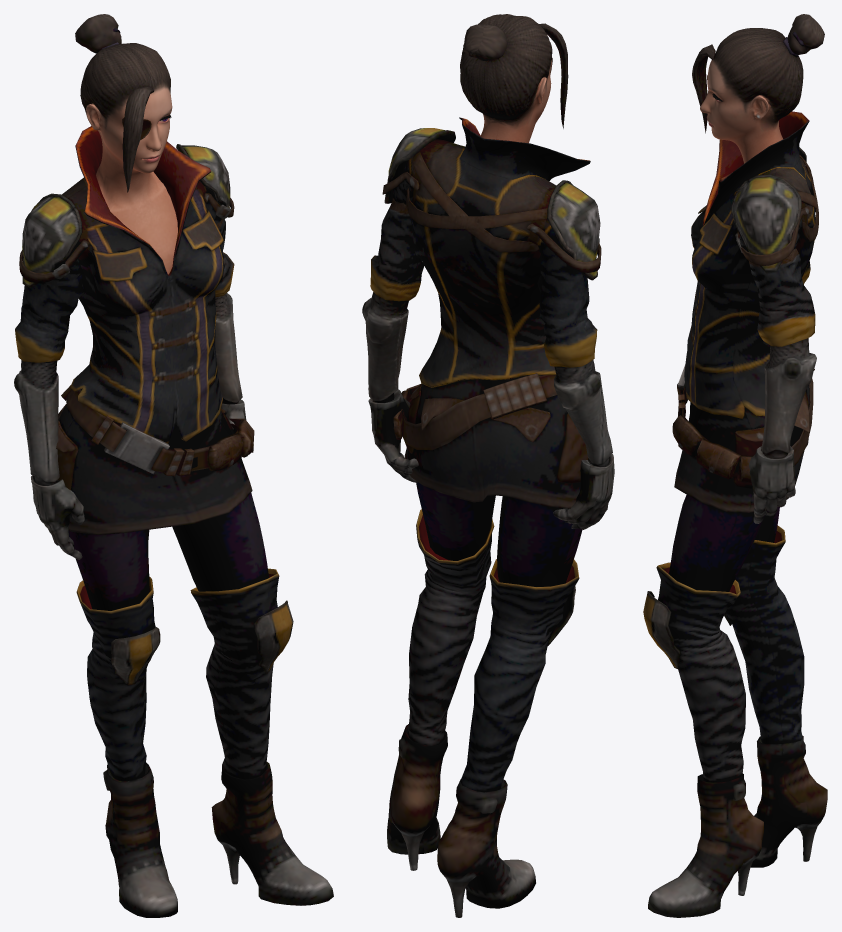
File: Idle01.obj
The picture shows the model from 3 angles, left to right: view 1: azimuth 30°, elevation 25°; view 2: azimuth 150°, elevation 25°; view 3: azimuth 270°, elevation 25°; orthographic projection. The views are drawn at different scales.
Visible parts, largest first — view 1: Mesh; view 2: Mesh; view 3: Mesh.
Boxes of the visible parts, <box> form: Mesh: <box>14,14,333,917</box>; Mesh: <box>362,14,614,917</box>; Mesh: <box>643,14,827,917</box>.
Bounding box in the file's own units: 16.59 × 53.94 × 10.83.
Materials: 1 (1 with a texture image).
